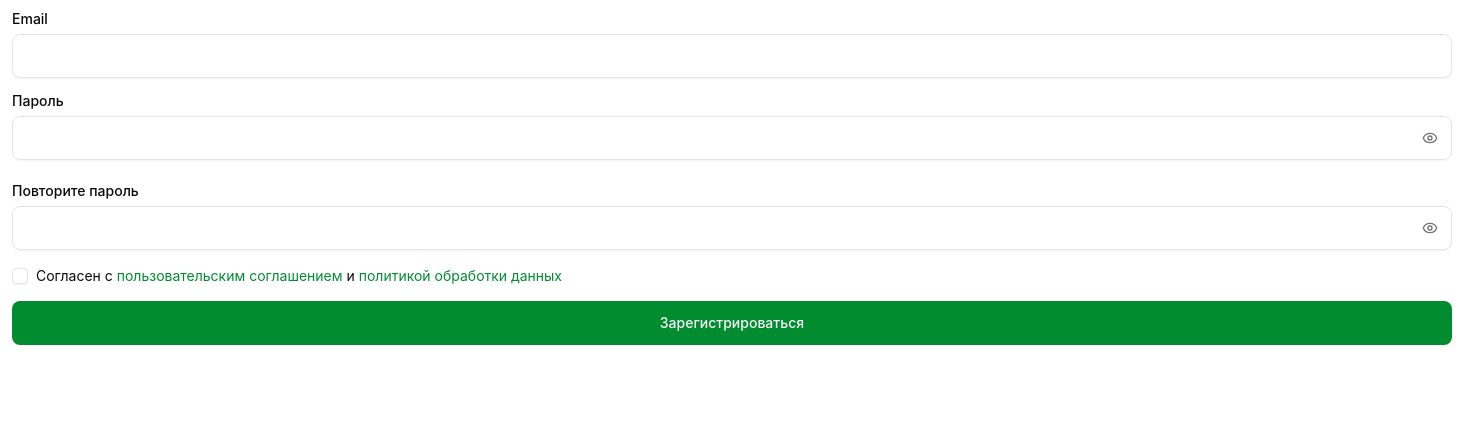
Scenario: RegisterForm › без согласия с соглашением сабмит блокируется
In the field labelled "Email": point(732, 56) [12, 34, 1452, 78], type "user@example.com"
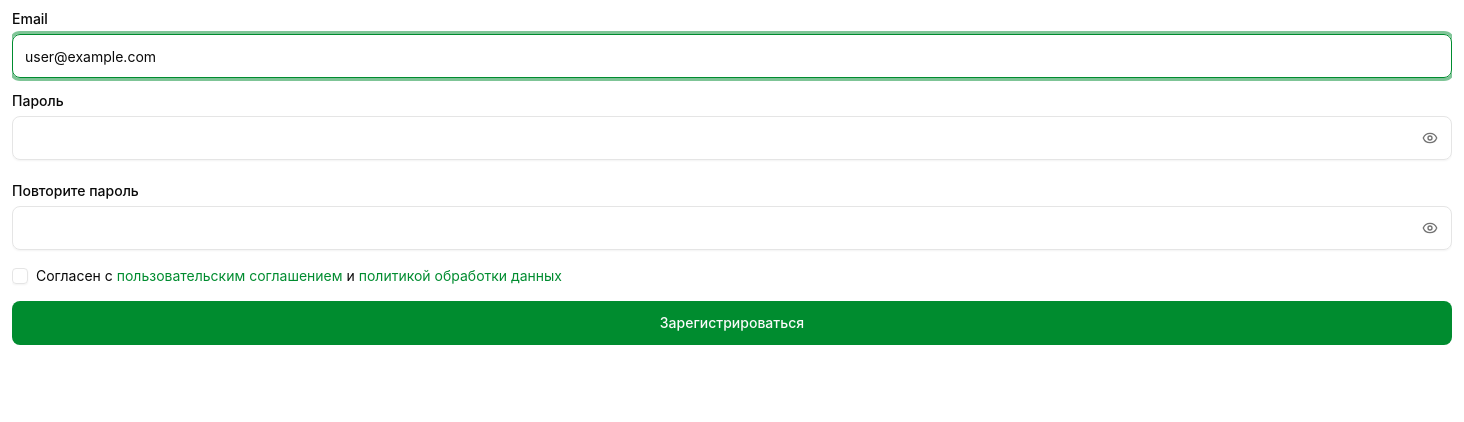
In the password field labelled "Пароль": point(732, 138) [12, 116, 1452, 160], type "Secret123"
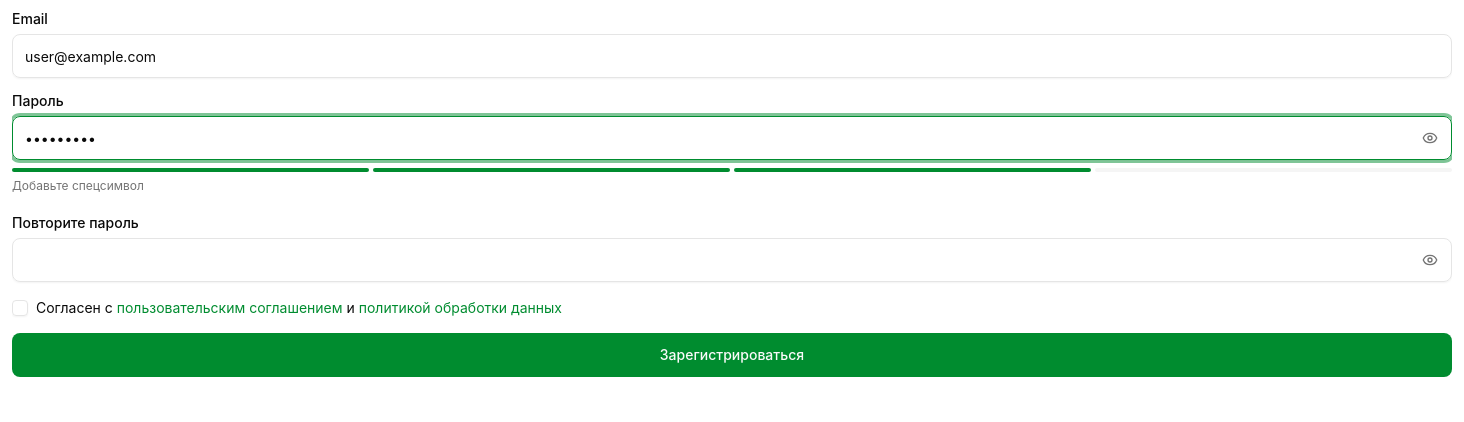
In the password field labelled "Повторите пароль": point(732, 260) [12, 238, 1452, 282], type "Secret123"
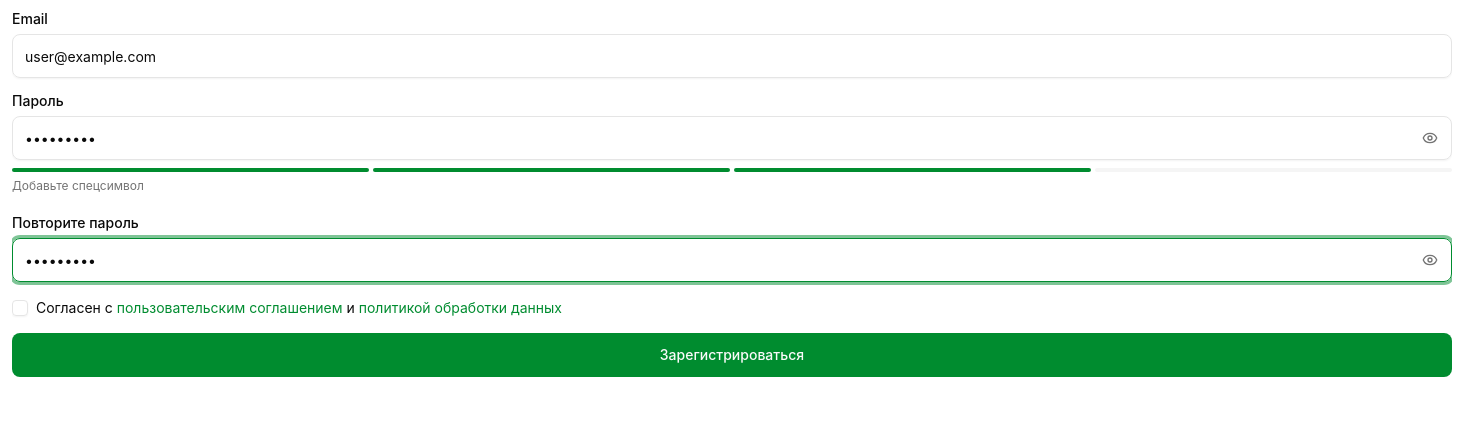
Click the button "Зарегистрироваться": point(732, 355) [12, 333, 1452, 377]
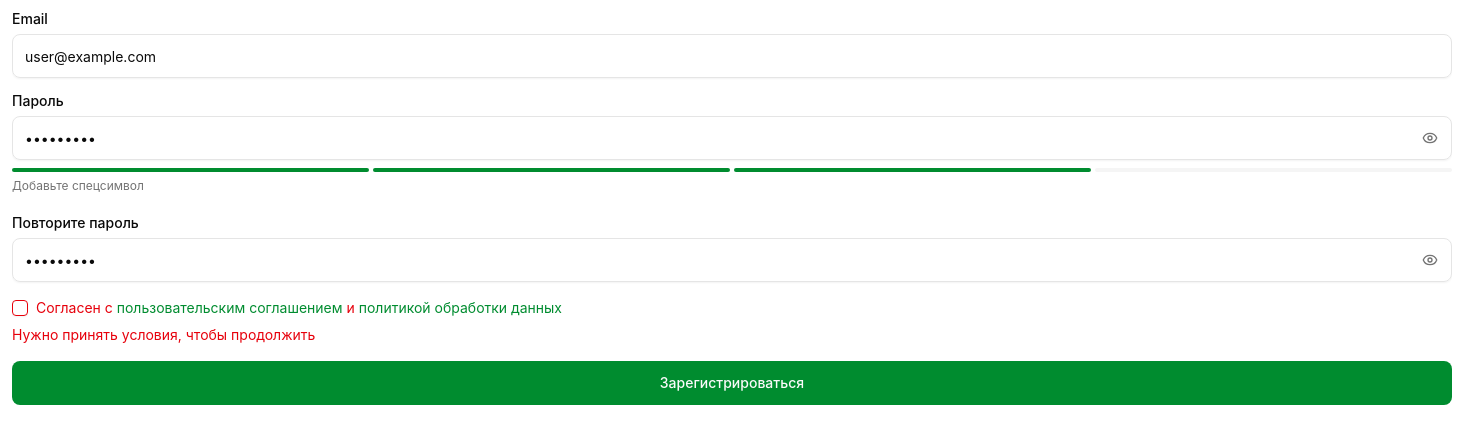
Now the text "Нужно принять условия, чтобы продолжить" is shown, box [12, 326, 315, 343]
